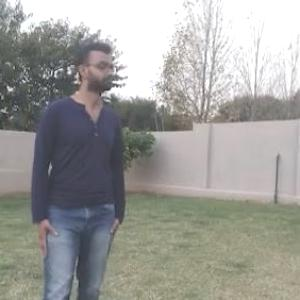follow: (25, 39, 128, 299)
